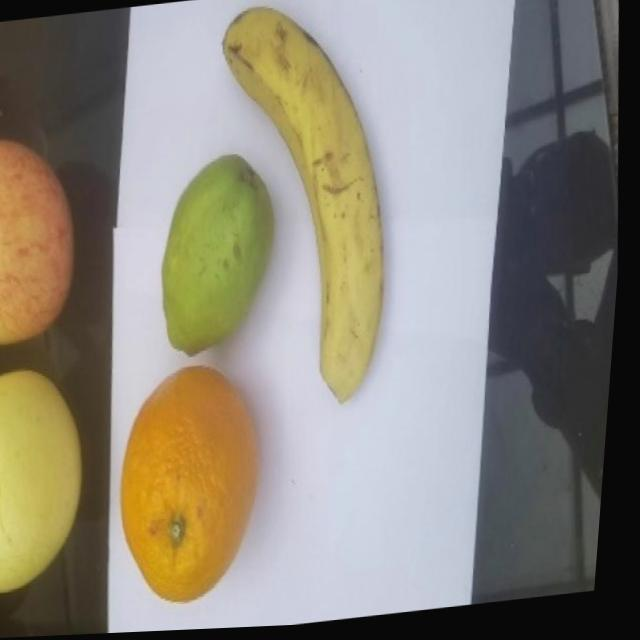Apple: (0, 130, 92, 347)
Banana: (199, 0, 415, 419)
Orange: (113, 359, 282, 611)
